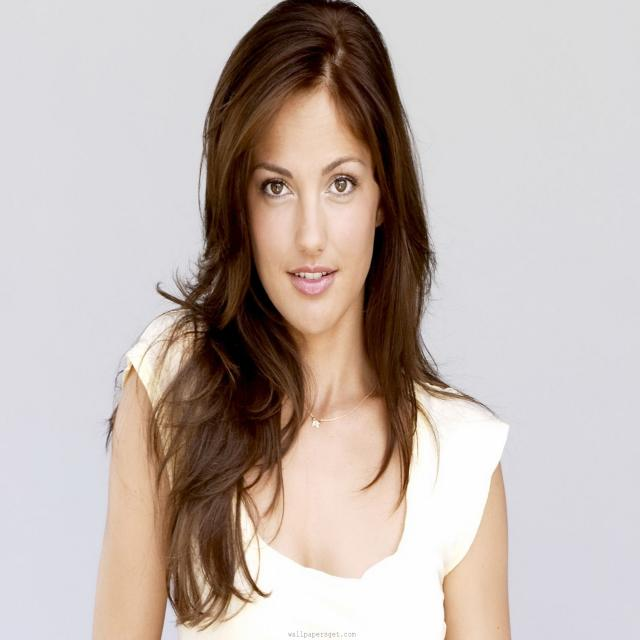human: (92, 3, 522, 640)
